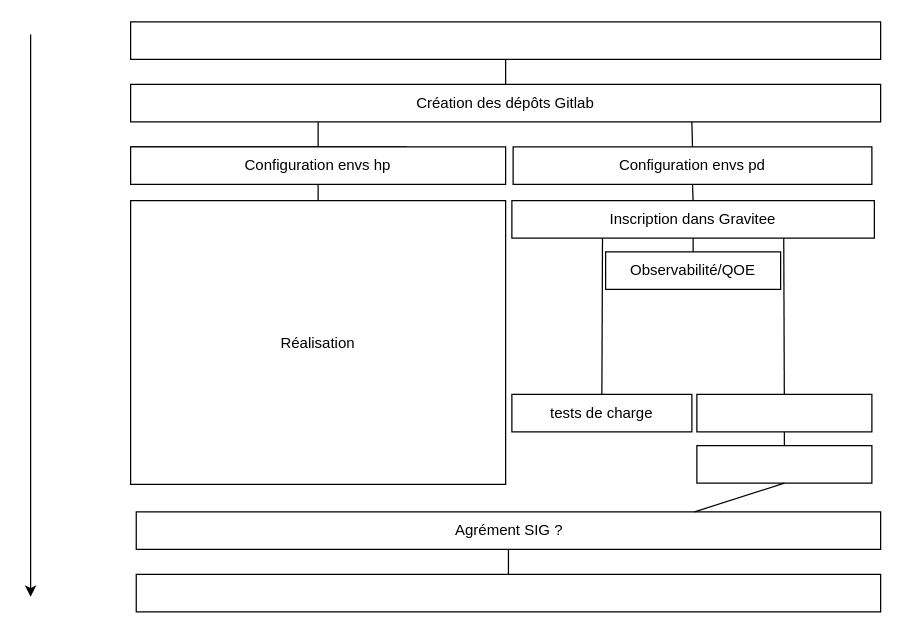
The diagram is 903 pixels wide and 634 high, and some of its shapes have lost their labels. Each missing label, with the centre of its shape:
Audit d'accessibilité: the point at 784,412
Audit de sécurité: the point at 784,463
Demande DUSI pour les noms de domaine: the point at 505,40
Ouverture en production: the point at 508,592
